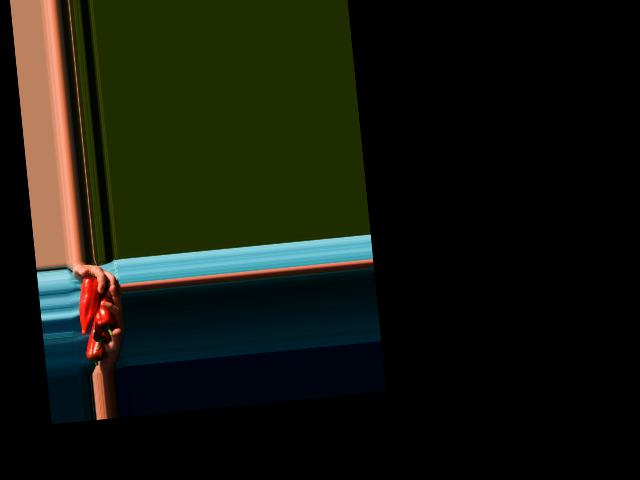bell_pepper: (84, 328, 107, 366)
